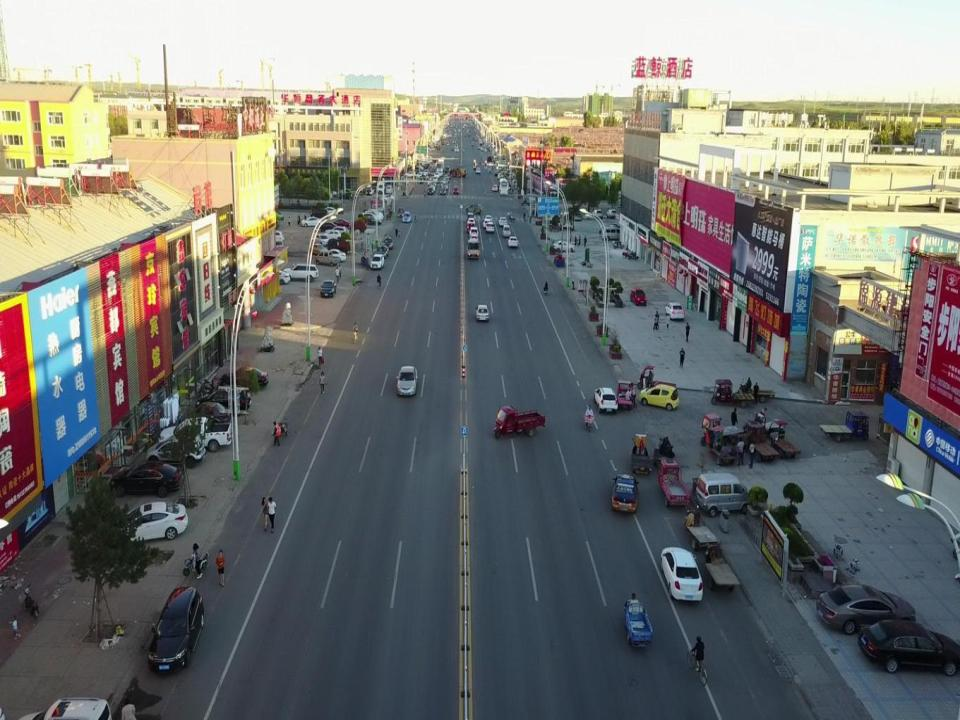bus: (498, 178, 509, 195)
car: (857, 618, 960, 676), (146, 585, 206, 676), (816, 584, 916, 634), (110, 501, 188, 545), (108, 459, 186, 497), (659, 546, 704, 601), (20, 697, 113, 720), (145, 437, 207, 468), (194, 390, 252, 417), (178, 402, 233, 425), (637, 383, 680, 411), (219, 366, 269, 390), (612, 473, 640, 514), (395, 366, 419, 396), (283, 263, 319, 283), (593, 387, 618, 414), (663, 301, 684, 321), (268, 268, 291, 285), (322, 248, 346, 264), (629, 287, 647, 307), (320, 278, 337, 298), (359, 212, 383, 226), (310, 231, 330, 246), (552, 240, 575, 253), (370, 252, 386, 270), (474, 304, 490, 322), (327, 225, 349, 238), (363, 209, 384, 222), (300, 216, 322, 228), (316, 220, 338, 232), (308, 243, 328, 256), (268, 237, 284, 253), (465, 202, 483, 216), (323, 230, 344, 241), (329, 218, 350, 229), (268, 229, 284, 243), (310, 207, 330, 218), (376, 244, 390, 258), (322, 206, 339, 217), (507, 236, 519, 250), (382, 236, 394, 249), (592, 207, 604, 220), (606, 207, 618, 219), (570, 209, 582, 221), (401, 211, 412, 224), (485, 220, 495, 234), (482, 217, 493, 229), (466, 216, 476, 229), (338, 192, 354, 200), (468, 226, 478, 238), (498, 215, 508, 227), (469, 231, 478, 243), (484, 214, 493, 224), (366, 185, 374, 196), (385, 184, 393, 195), (439, 185, 447, 196), (426, 186, 434, 197), (452, 185, 460, 195), (398, 206, 404, 218), (466, 212, 474, 220), (491, 184, 499, 192)
truck: (158, 417, 232, 453), (316, 250, 340, 266), (466, 237, 480, 259)
van: (695, 472, 752, 518), (601, 226, 622, 242), (598, 223, 622, 236), (376, 180, 386, 194), (502, 223, 511, 237)
